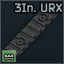KAC URX 3 3 inch rail: (0, 0, 64, 64)
